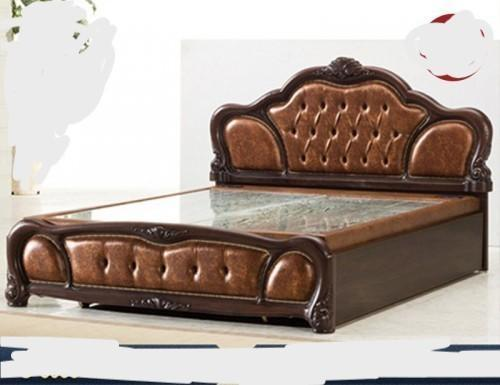Bed-Mattress: (10, 54, 492, 332)
